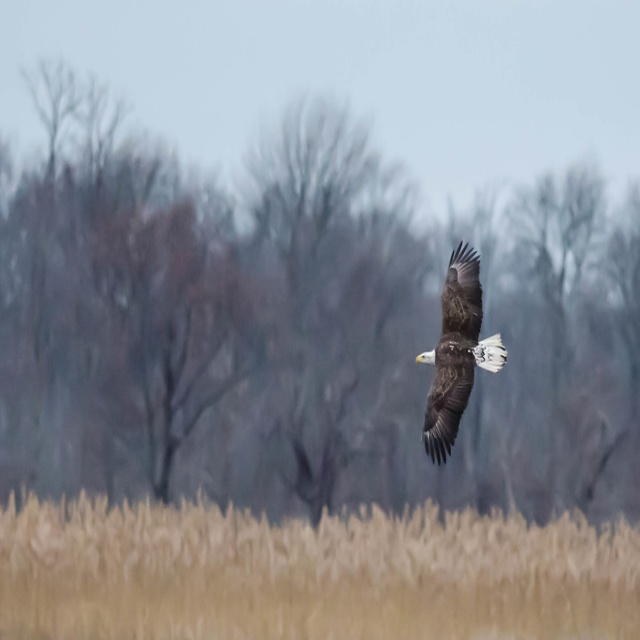Eagle: (415, 243, 512, 471)
